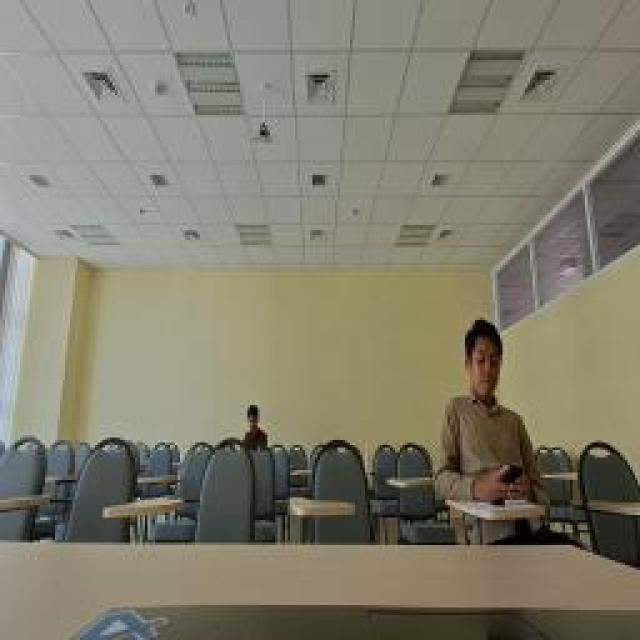phone: (435, 320, 550, 502)
study: (240, 403, 268, 455)
